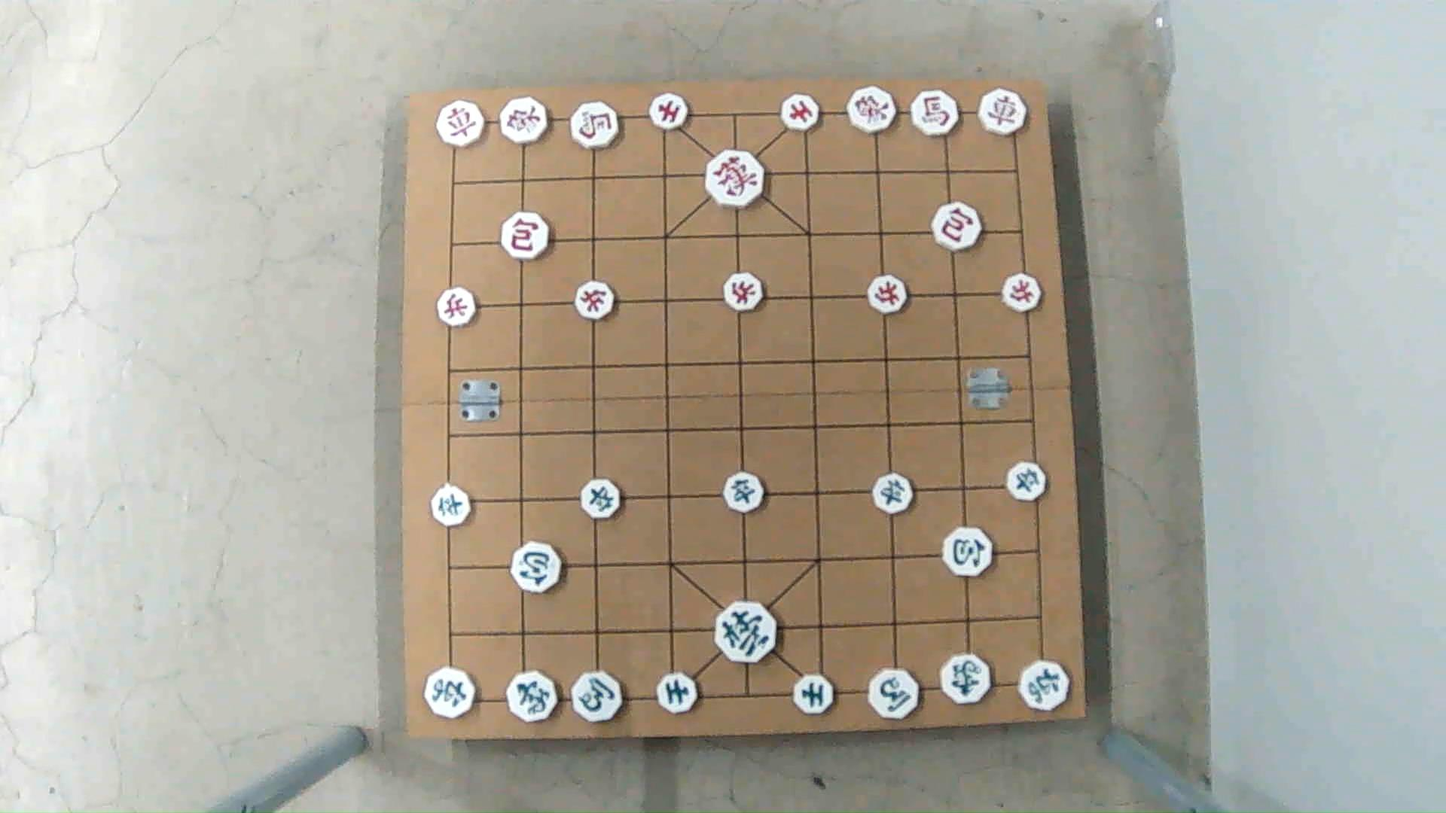cha_green: (1017, 662, 1072, 710), (425, 665, 474, 717)
cha_red: (975, 93, 1029, 136), (438, 104, 490, 147)
jol_green: (869, 473, 917, 516), (577, 479, 624, 519), (721, 473, 767, 510), (430, 488, 474, 525), (1006, 464, 1050, 501)
jol_red: (436, 289, 481, 329), (868, 277, 912, 312), (721, 275, 765, 310), (1002, 276, 1046, 310), (572, 282, 616, 316)
ma_green: (568, 674, 625, 721), (865, 670, 920, 717)
ma_red: (572, 105, 625, 150), (908, 92, 960, 134)
po_green: (507, 542, 563, 593), (939, 528, 992, 578)
po_red: (932, 206, 984, 250), (501, 215, 552, 257)
sa_green: (793, 678, 837, 716), (653, 674, 697, 711)
sa_red: (779, 93, 822, 132), (648, 95, 691, 128)
sang_green: (940, 656, 995, 704), (504, 672, 558, 720)
sang_red: (844, 90, 898, 134), (498, 99, 552, 143)
wang_green: (716, 604, 781, 662)
wang_red: (703, 150, 767, 202)
